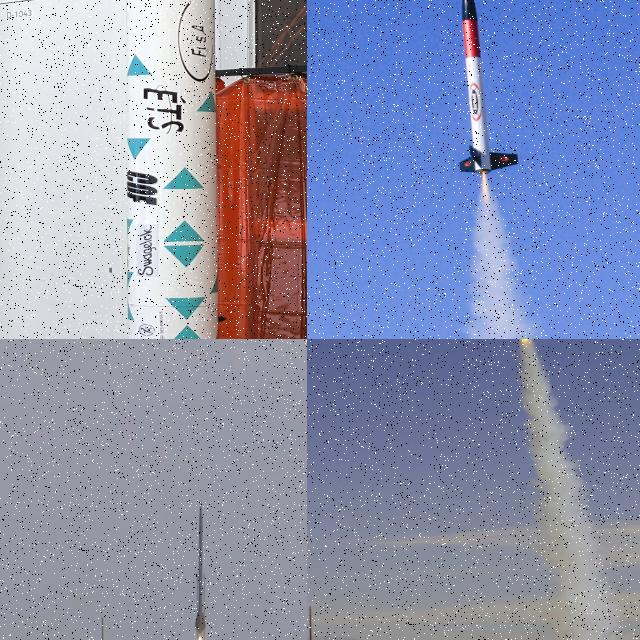Rocket: (126, 0, 218, 339), (458, 0, 520, 177), (194, 499, 207, 639)
